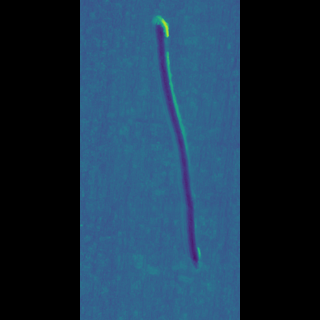Loch: (154, 13, 181, 274)
